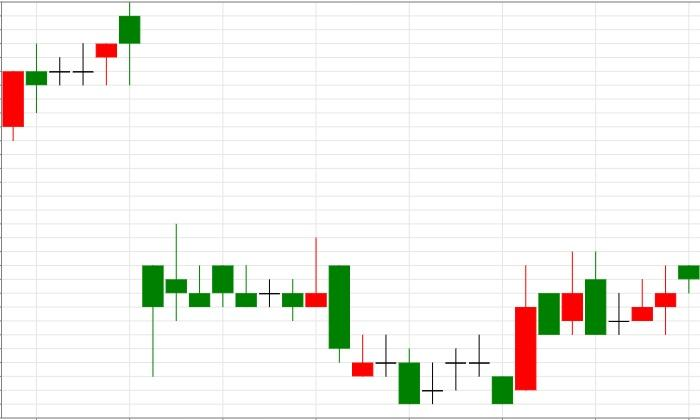bearish_engulfing_fall: (492, 251, 606, 404)
